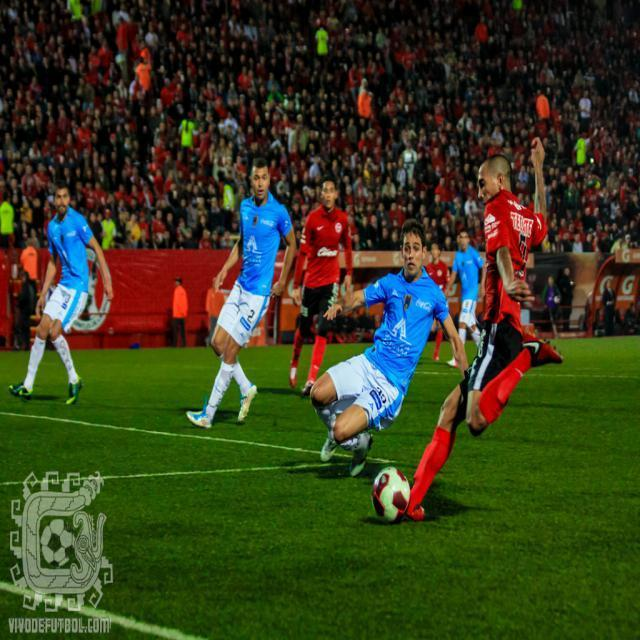football: (356, 466, 423, 531)
